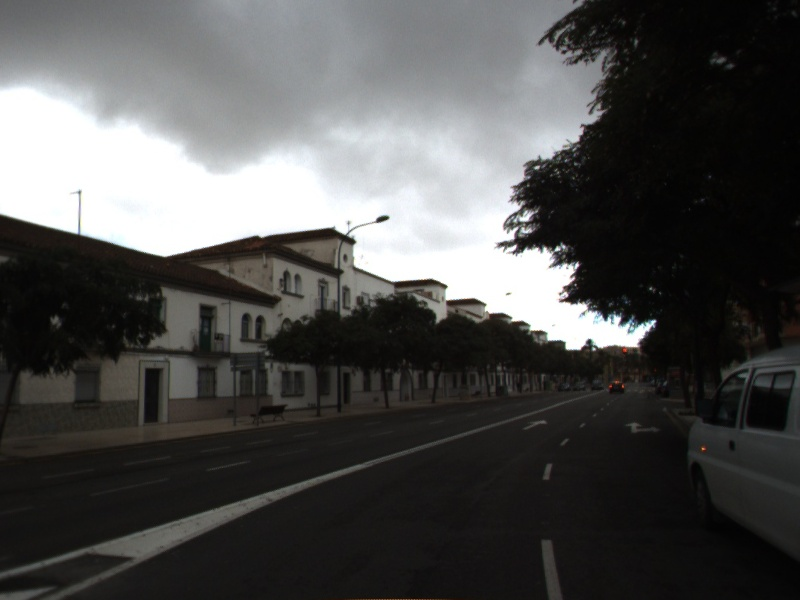STRAIGHT: (521, 418, 550, 431)
STRAIGHT_RIGHT: (623, 420, 663, 436)
